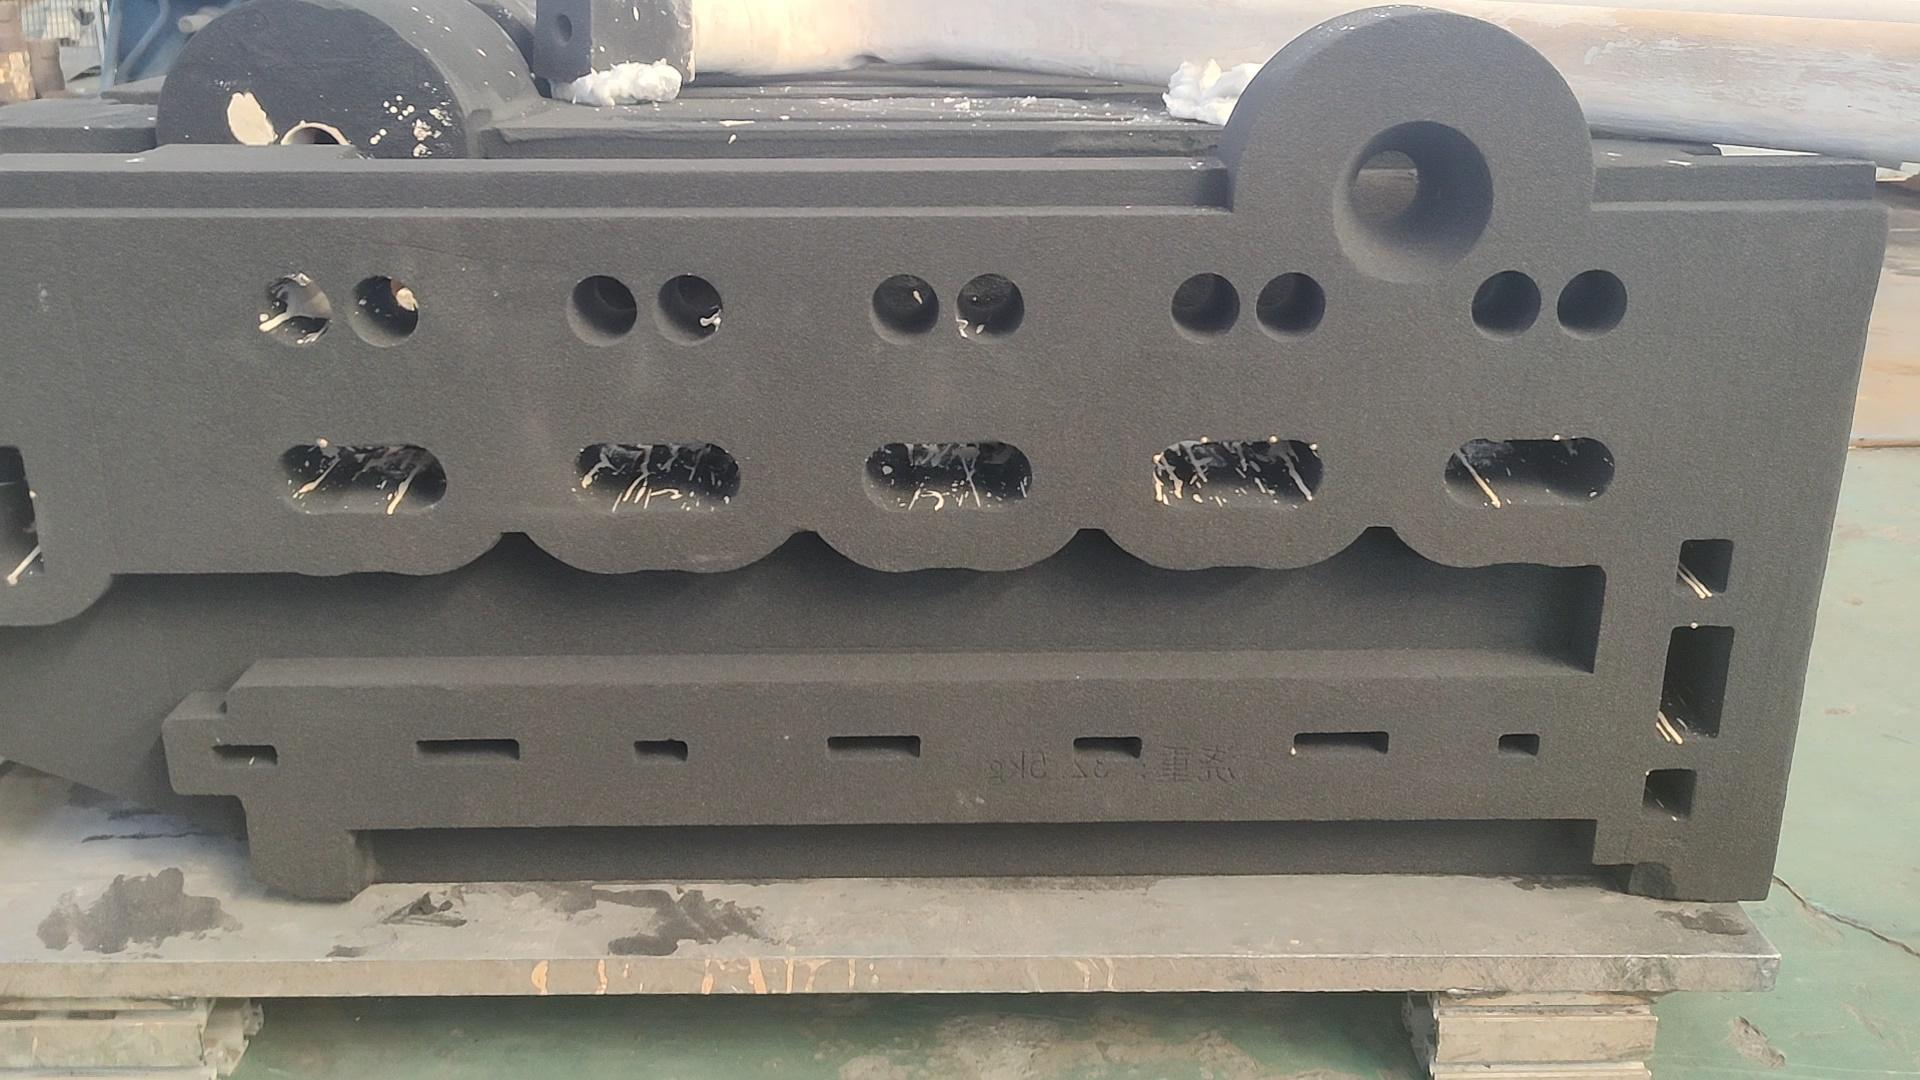pouring hole: (1331, 120, 1495, 286)
